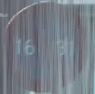No waiting: (7, 6, 87, 87)
